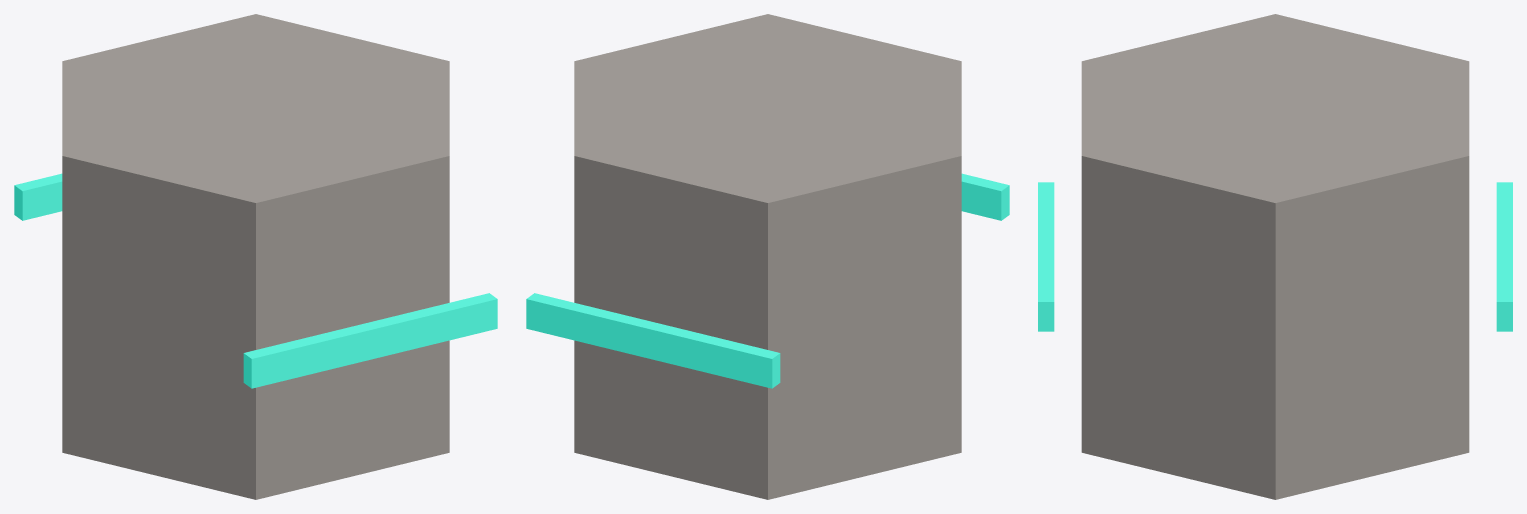
Rendered from crate.glb.
3 renders of one model, left to right at view 1: azimuth 30°, elevation 25°; view 2: azimuth 150°, elevation 25°; view 3: azimuth 270°, elevation 25°, orthographic.
Parts seen in each view (by area): view 1: shell, band_a, band_b; view 2: shell, band_b, band_a; view 3: shell, band_a, band_b.
Part boxes in pixels (x1=…): shell: x1=62, y1=14, x2=449, y2=499; band_a: x1=243, y1=293, x2=497, y2=388; band_b: x1=14, y1=173, x2=62, y2=220; shell: x1=574, y1=14, x2=961, y2=499; band_b: x1=526, y1=293, x2=780, y2=388; band_a: x1=961, y1=173, x2=1009, y2=220; shell: x1=1081, y1=14, x2=1469, y2=499; band_a: x1=1038, y1=182, x2=1054, y2=331; band_b: x1=1496, y1=182, x2=1512, y2=331.
Bounding box in the file's own units: 0.82 × 0.6 × 0.87.
